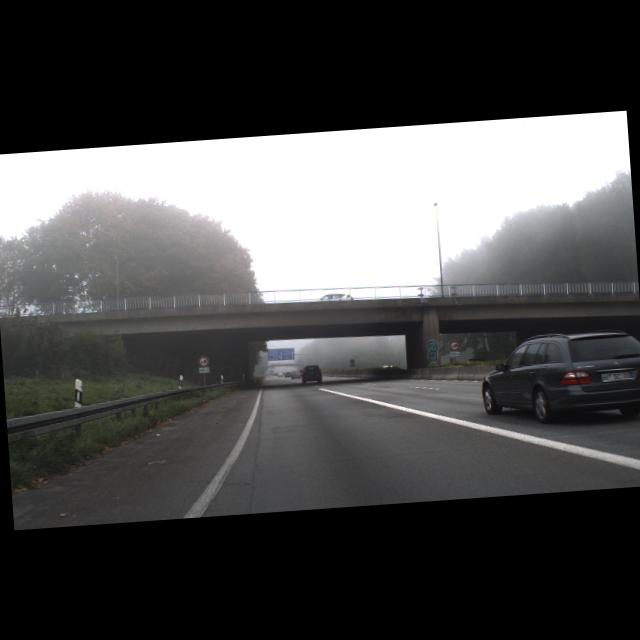prohibitory: (198, 354, 210, 368), (448, 340, 459, 351)
